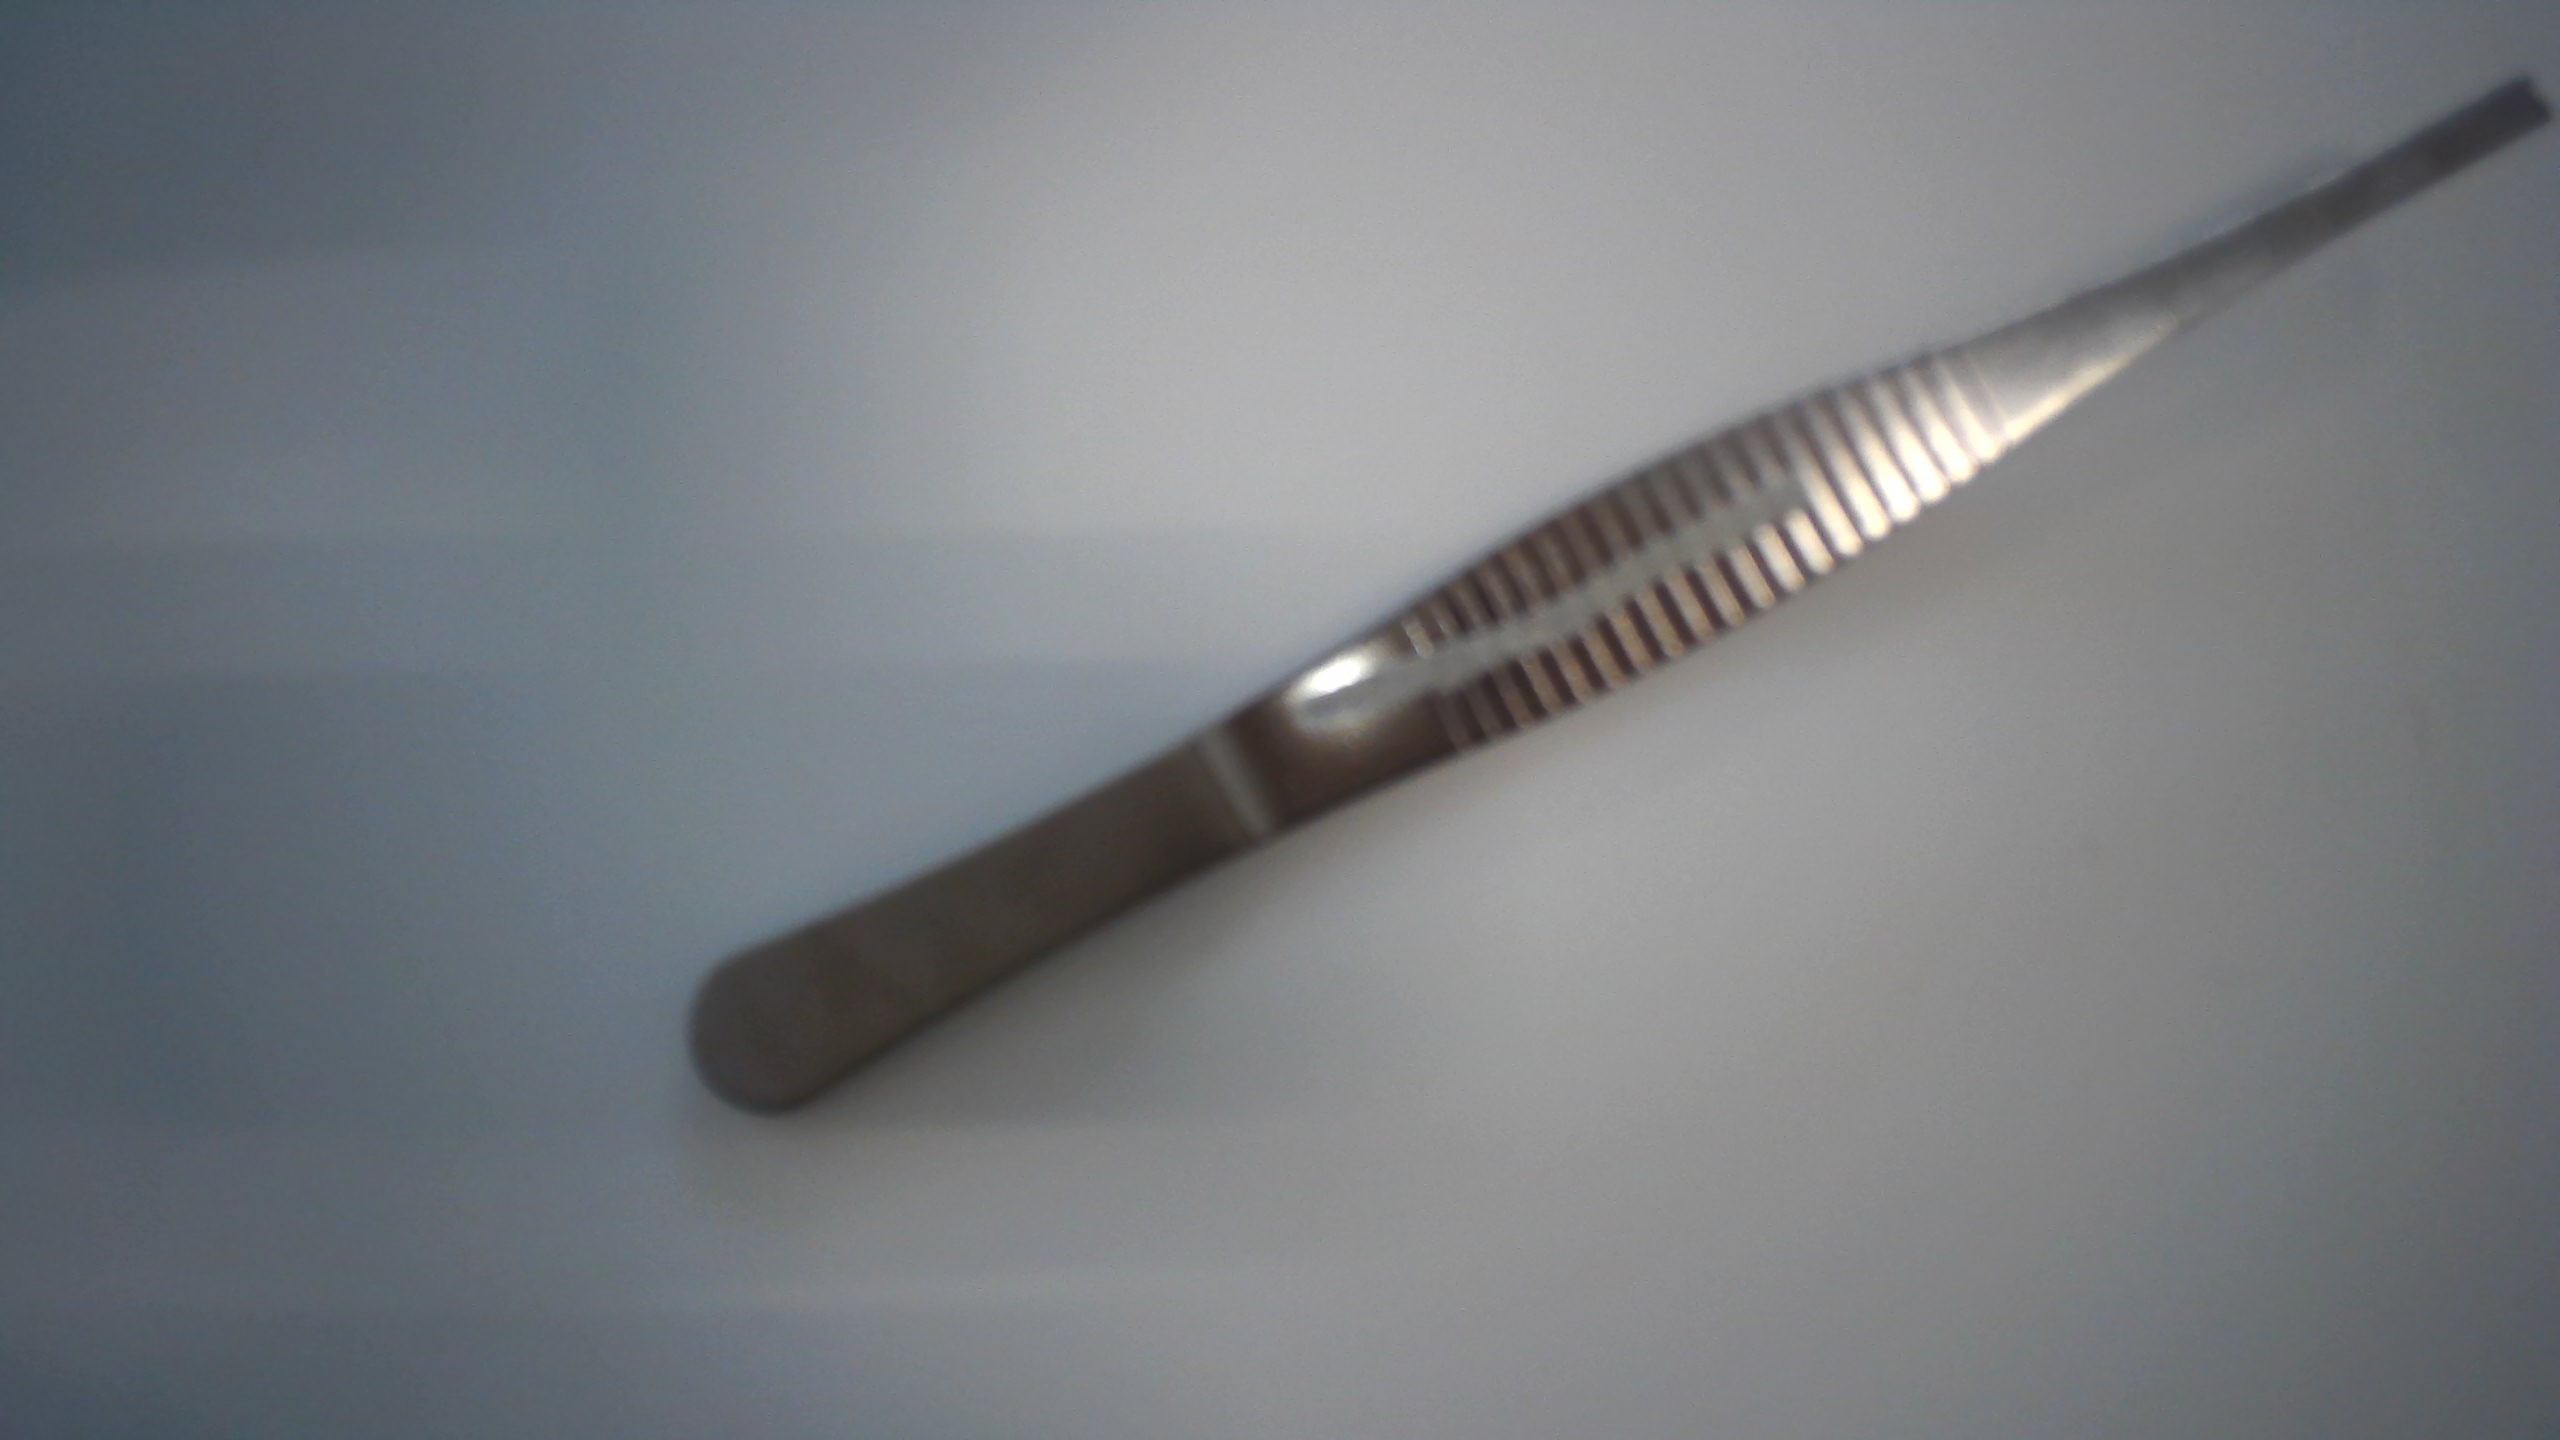Scratches: (1276, 455, 1813, 738)
